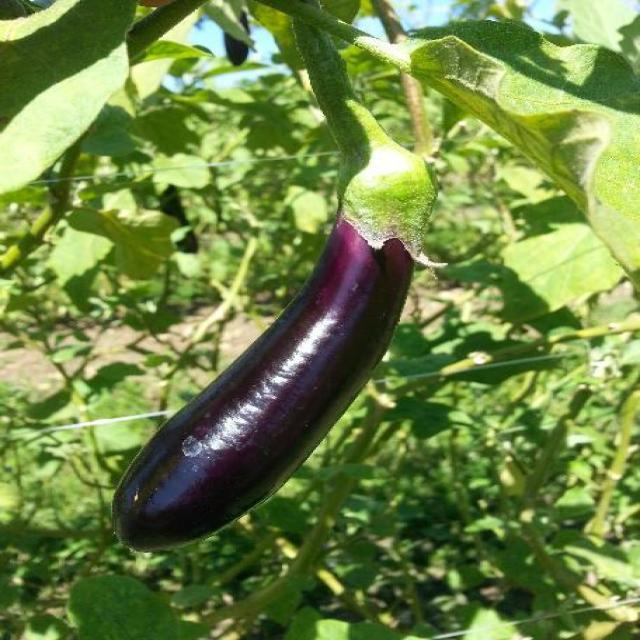eggplant: (101, 128, 432, 554)
